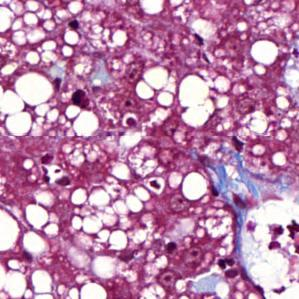steatosis: (16, 75, 53, 109)
